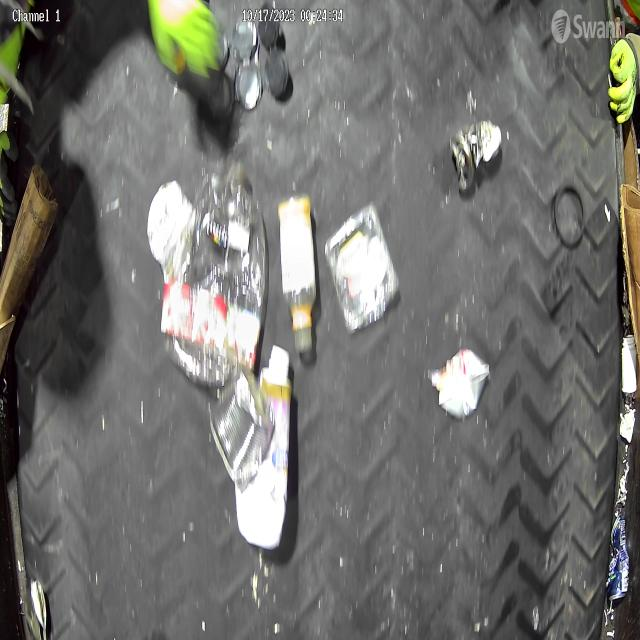can: (211, 365, 275, 491), (607, 515, 629, 601)
plastic_bottle: (277, 191, 317, 357)
